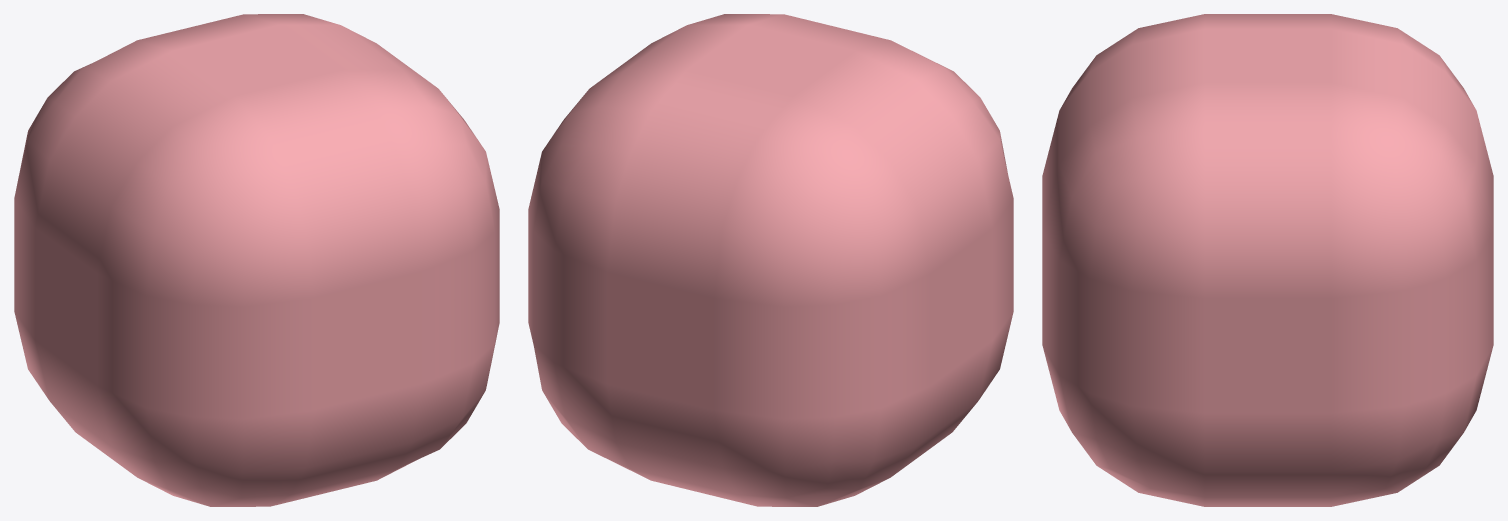
File: worm_segment_jelly.glb
3 views of the same model, side by side, from view 1: azimuth 30°, elevation 25°; view 2: azimuth 150°, elevation 25°; view 3: azimuth 270°, elevation 25° (orthographic). The views are drawn at different scales.
Visible parts, largest first — view 1: worm_segment_jelly; view 2: worm_segment_jelly; view 3: worm_segment_jelly.
Boxes of the visible parts, x1,y1,x2,y2 form: worm_segment_jelly: [14, 14, 499, 506]; worm_segment_jelly: [528, 14, 1013, 506]; worm_segment_jelly: [1042, 14, 1493, 506].
Bounding box in the file's own units: 0.86 × 0.86 × 0.86.
